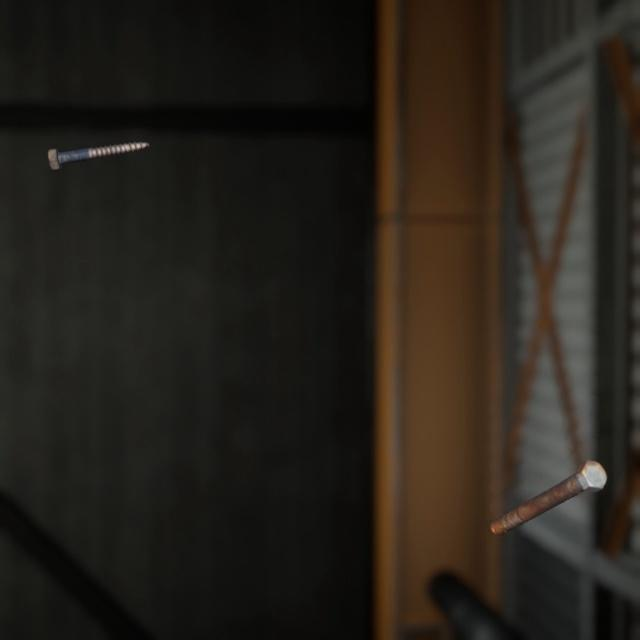bolt: (485, 433, 611, 519), (43, 124, 154, 161)
